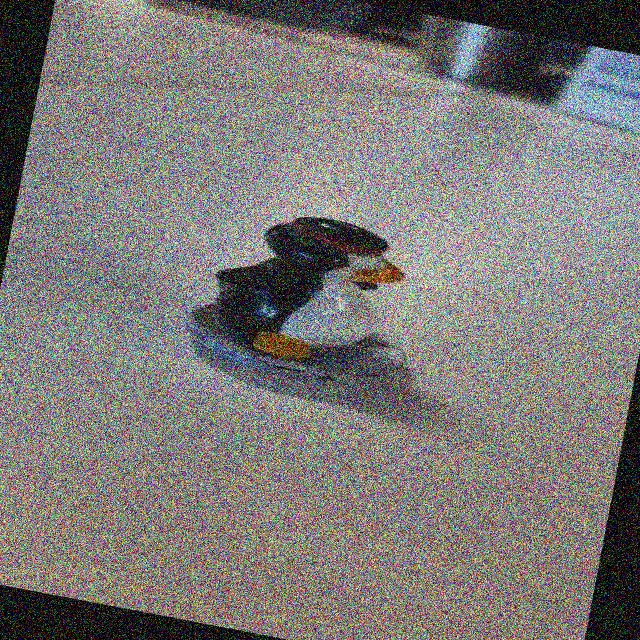Penguin: (172, 182, 539, 448)
